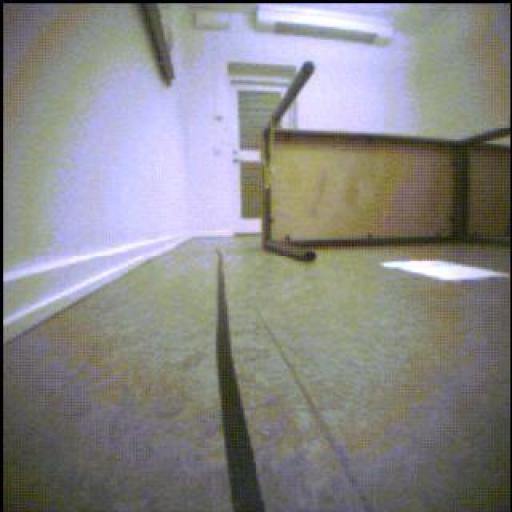Pad: (383, 260, 510, 283)
